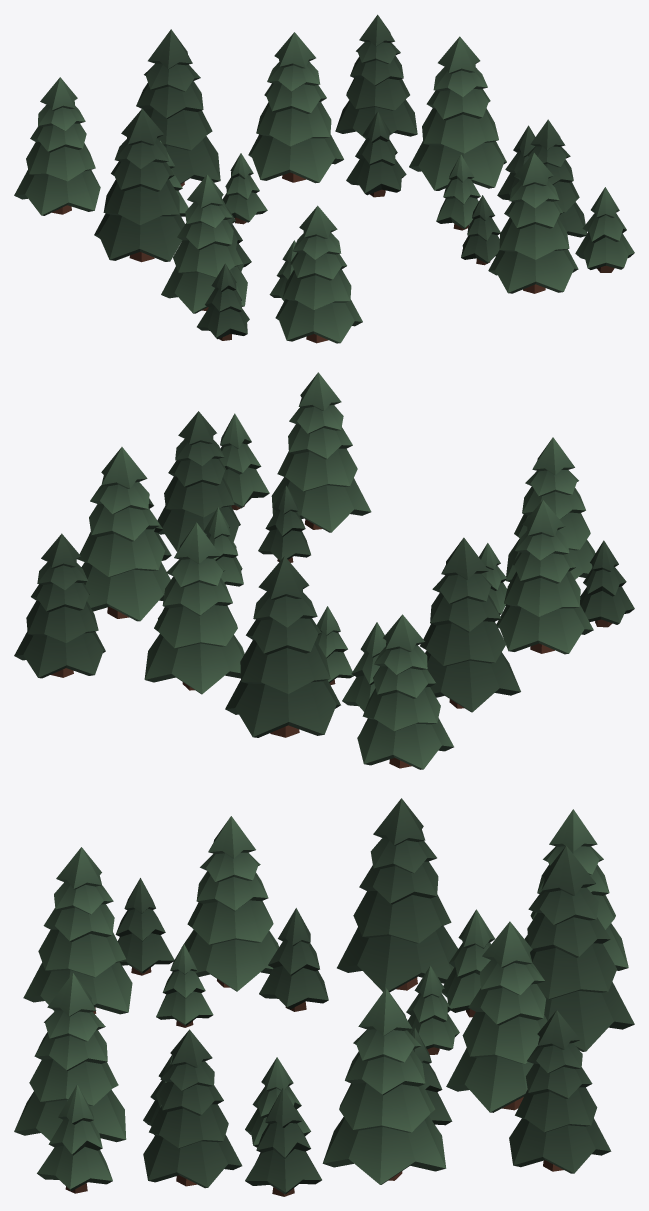
Rendered from treePatch.glb.
3 views of the same model, one above another, from view 1: azimuth 30°, elevation 25°; view 2: azimuth 150°, elevation 25°; view 3: azimuth 270°, elevation 25° (orthographic). The views are drawn at different scales.
Parts seen in each view (by area): view 1: TreePatch; view 2: TreePatch; view 3: TreePatch.
Part boxes in pixels (x1,y1,x2,y2): TreePatch: (14, 14, 634, 343); TreePatch: (14, 372, 634, 769); TreePatch: (14, 798, 634, 1196).
Size of what is drawn, in the model's own units: 14.86 by 5.35 by 15.34.
1 material, 1 textured.
